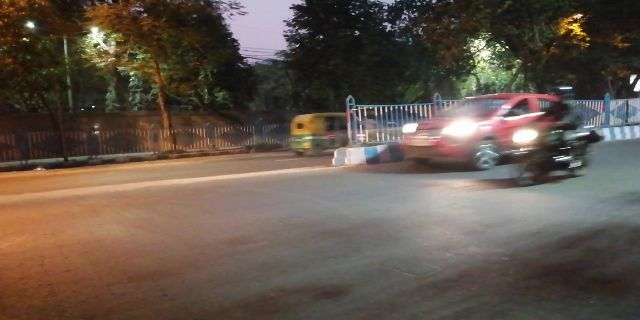Autorickshaw: (286, 114, 343, 151)
Car: (404, 91, 517, 171)
Motorbike: (520, 88, 595, 185)
